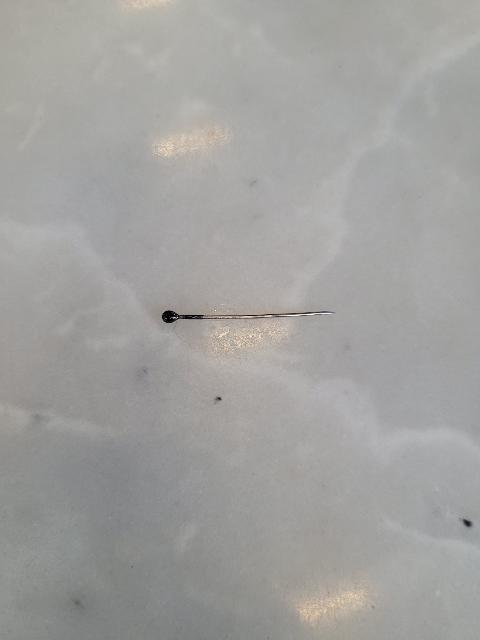Metal: (179, 308, 336, 320)
Plastik: (156, 304, 183, 331)
